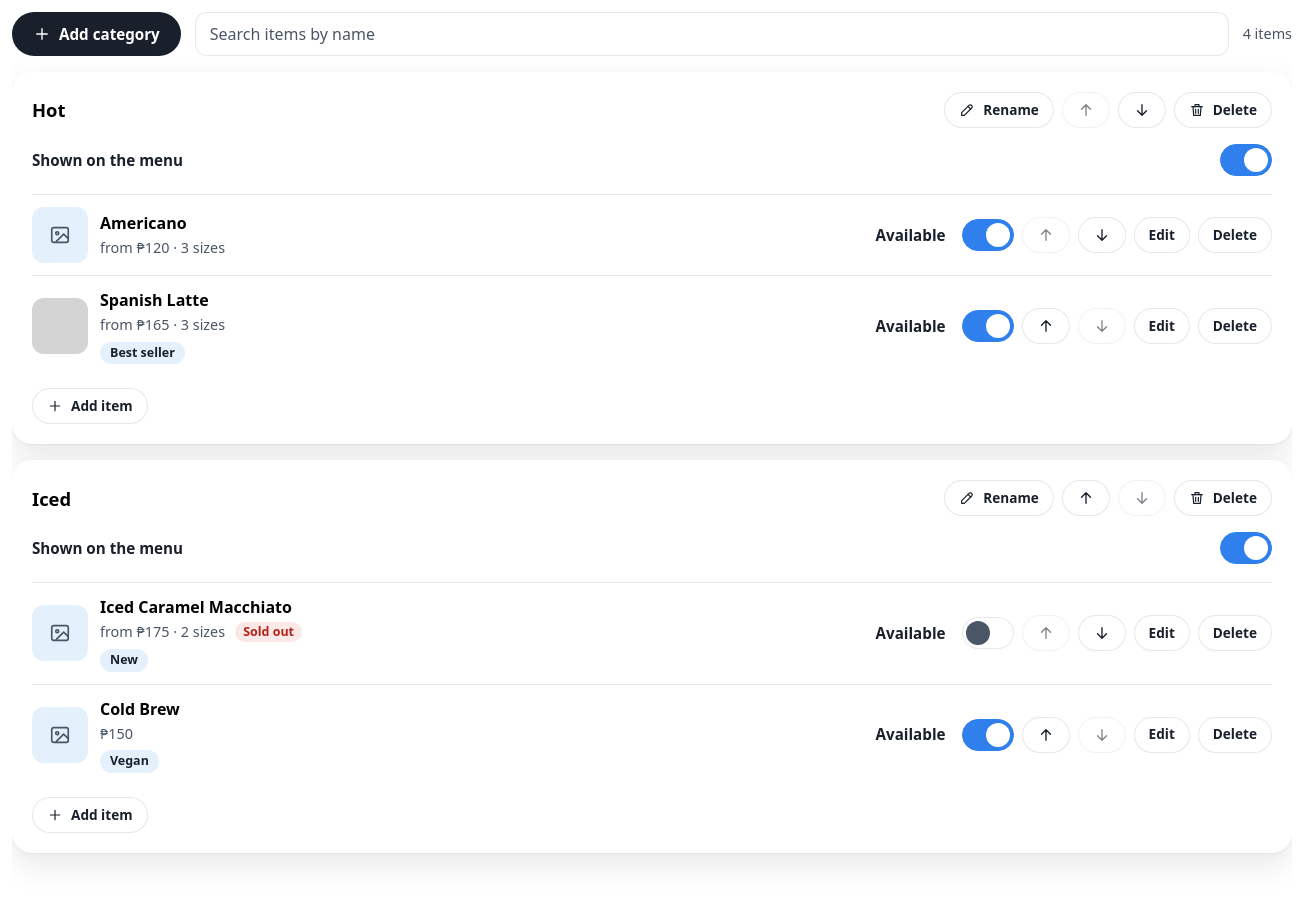
Test: ItemsTab moves items › moves an item down, saves the order, and keeps the focus on a working arrow
Step 1. Click the button named "Move Americano down" → (1102, 235), box [1078,217,1126,253]
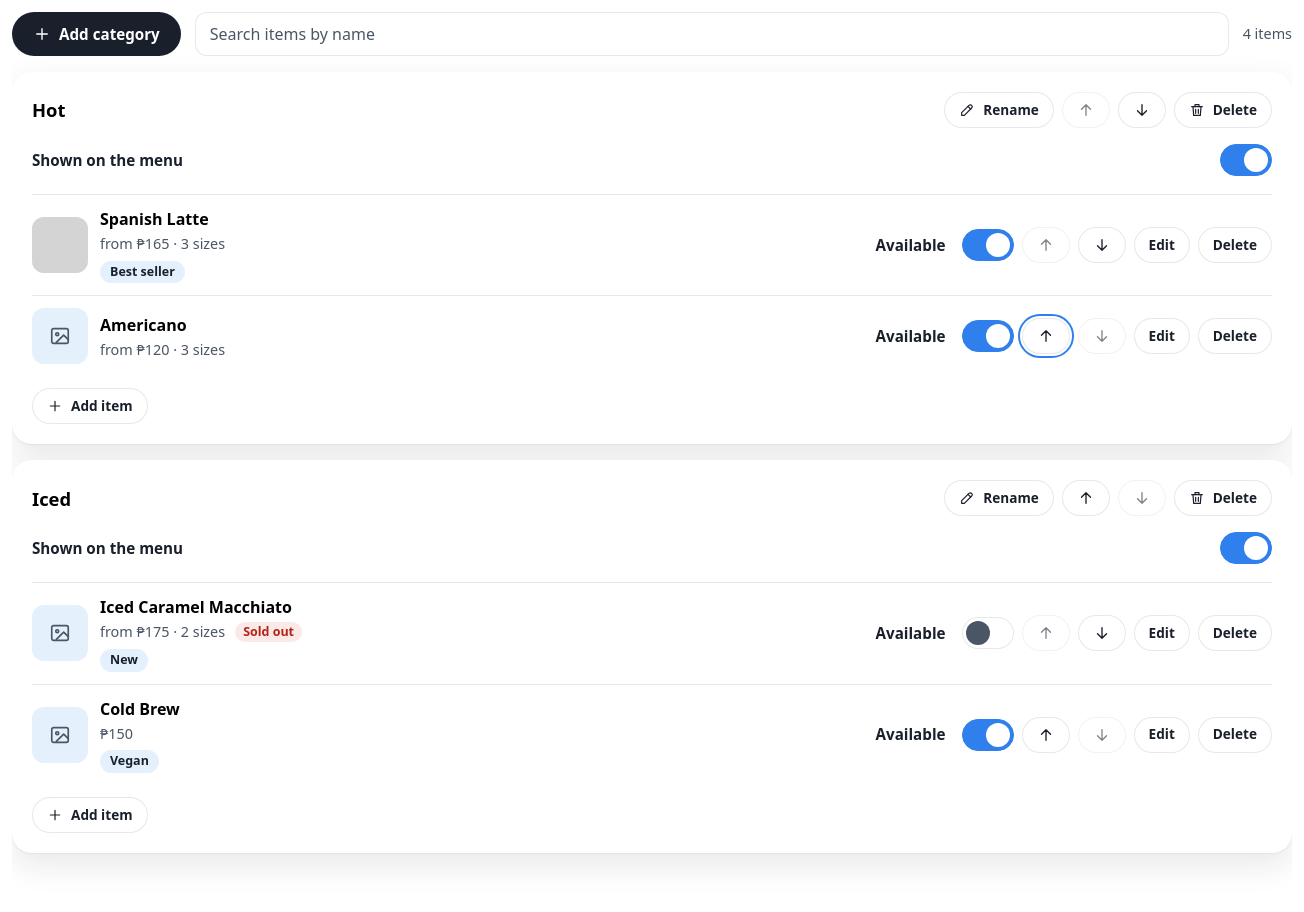
Expected: the button named "Move Americano down" is disabled, [1078,318,1126,354]
